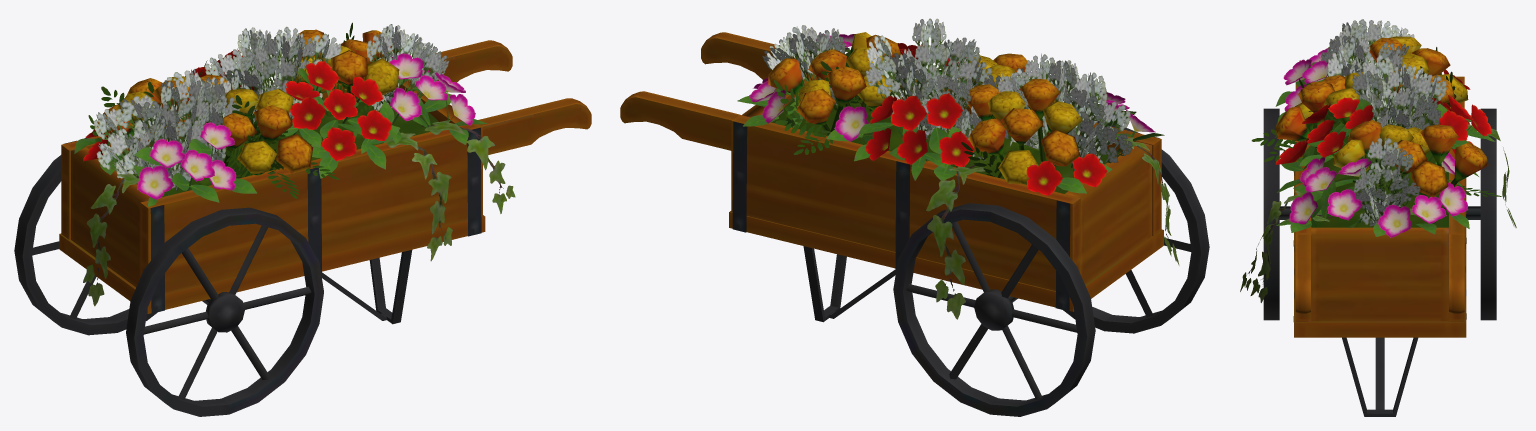
File: garden-wagon.glb
3 renders of one model, left to right at view 1: azimuth 30°, elevation 25°; view 2: azimuth 150°, elevation 25°; view 3: azimuth 270°, elevation 25°, orthographic. The views are drawn at different scales.
Bounding box in the file's own units: 19.13 × 11.58 × 9.86.
Materials: 1 (1 with a texture image).
